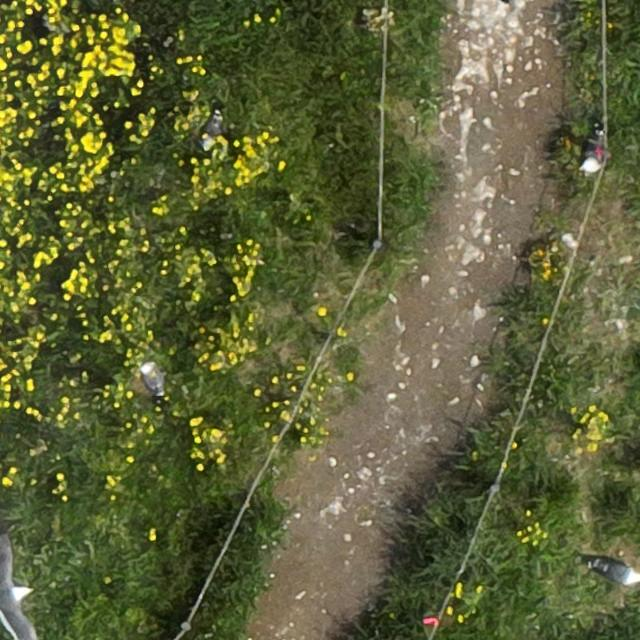F: (0, 544, 34, 640)
umineko: (582, 130, 614, 175), (598, 564, 638, 586), (140, 363, 160, 395), (202, 113, 220, 143)
